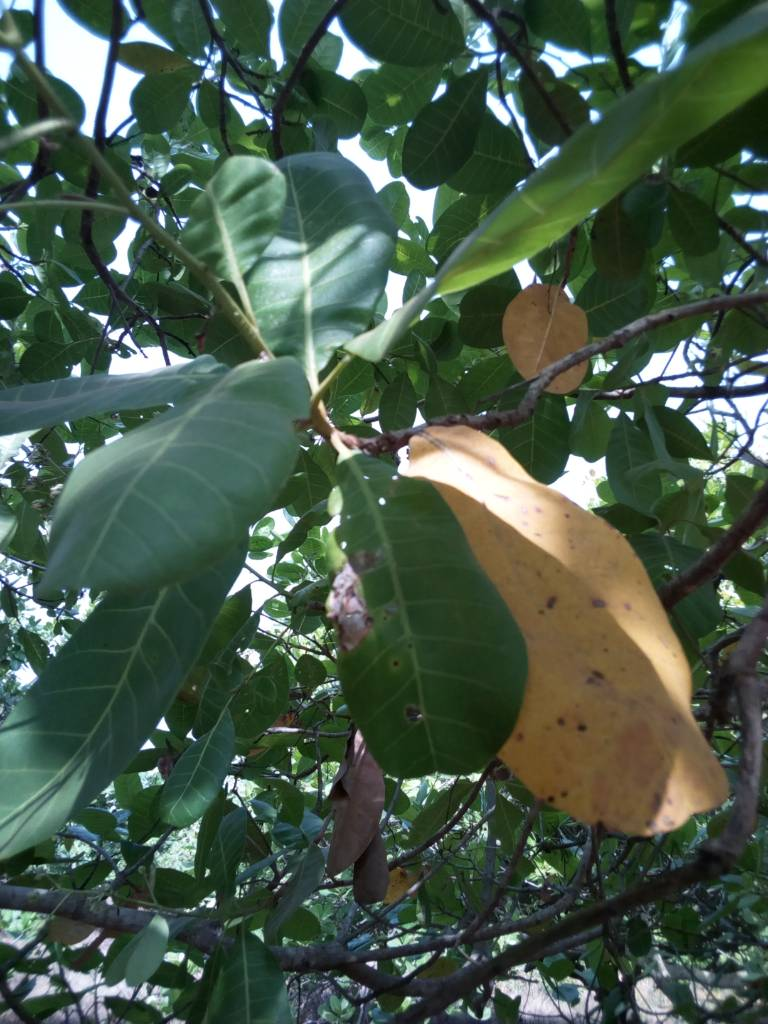Bactériose: (322, 444, 525, 782)
